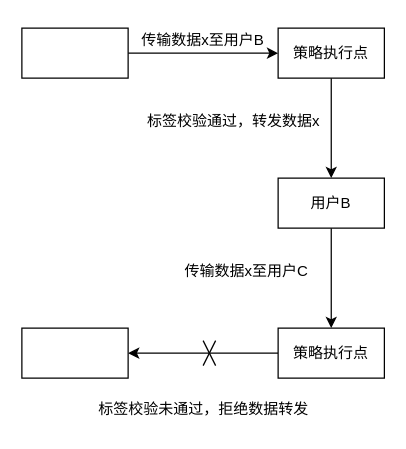
Some shapes in this 406 by 449 pixel diagram are drawn without their labels. The box of each missing label's shape, as (x1, y1, x2, y2) in pixels:
用户A: (21, 27, 128, 78)
用户C: (21, 327, 128, 378)
